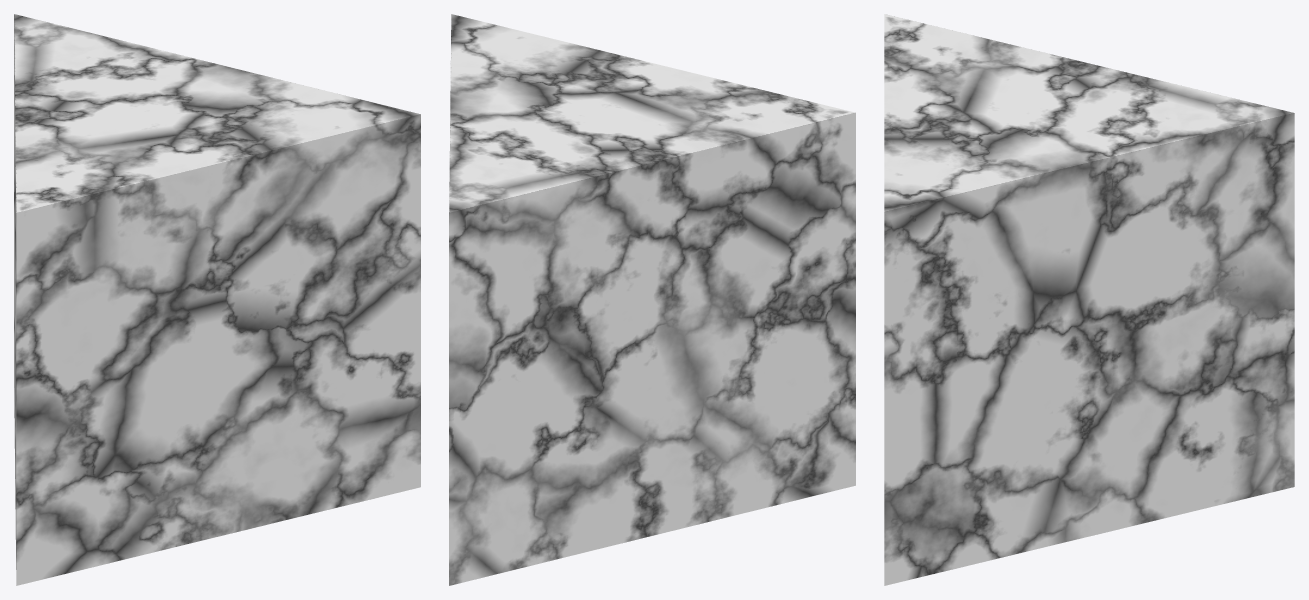
The model's file is Triangle_withMarbleTexture.fbx.
3 renders of one model, left to right at view 1: azimuth 30°, elevation 25°; view 2: azimuth 150°, elevation 25°; view 3: azimuth 270°, elevation 25°, orthographic.
Visible parts, largest first — view 1: Triangle.015; view 2: Triangle.015; view 3: Triangle.015.
Part boxes in pixels (x1,y1,x2,y2): Triangle.015: (14,14,420,585); Triangle.015: (449,14,855,585); Triangle.015: (884,14,1294,585).
Bounding box in the file's own units: 4.52 × 3.98 × 3.96.
